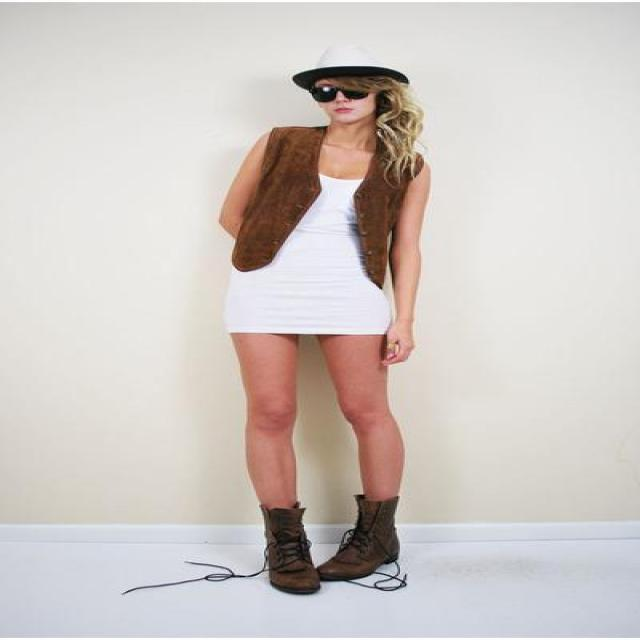dress: (224, 174, 394, 334)
hat: (299, 42, 387, 69)
jacket: (232, 126, 411, 289)
shoe: (248, 494, 402, 594)
sunglass: (293, 66, 402, 104)
